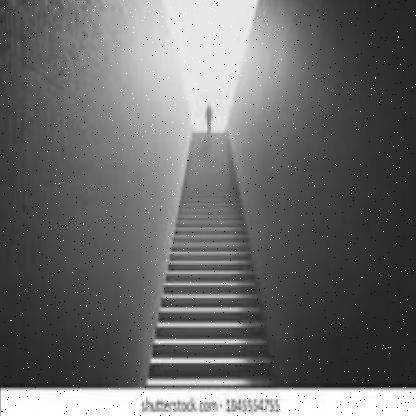stair_up: (125, 229, 295, 386)
